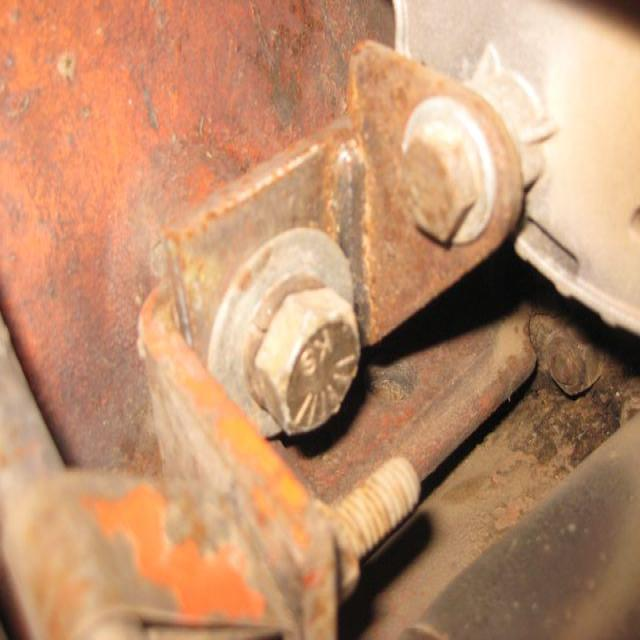blur bolt: (397, 117, 481, 255), (542, 320, 601, 400)
bolt head: (248, 276, 365, 447)
